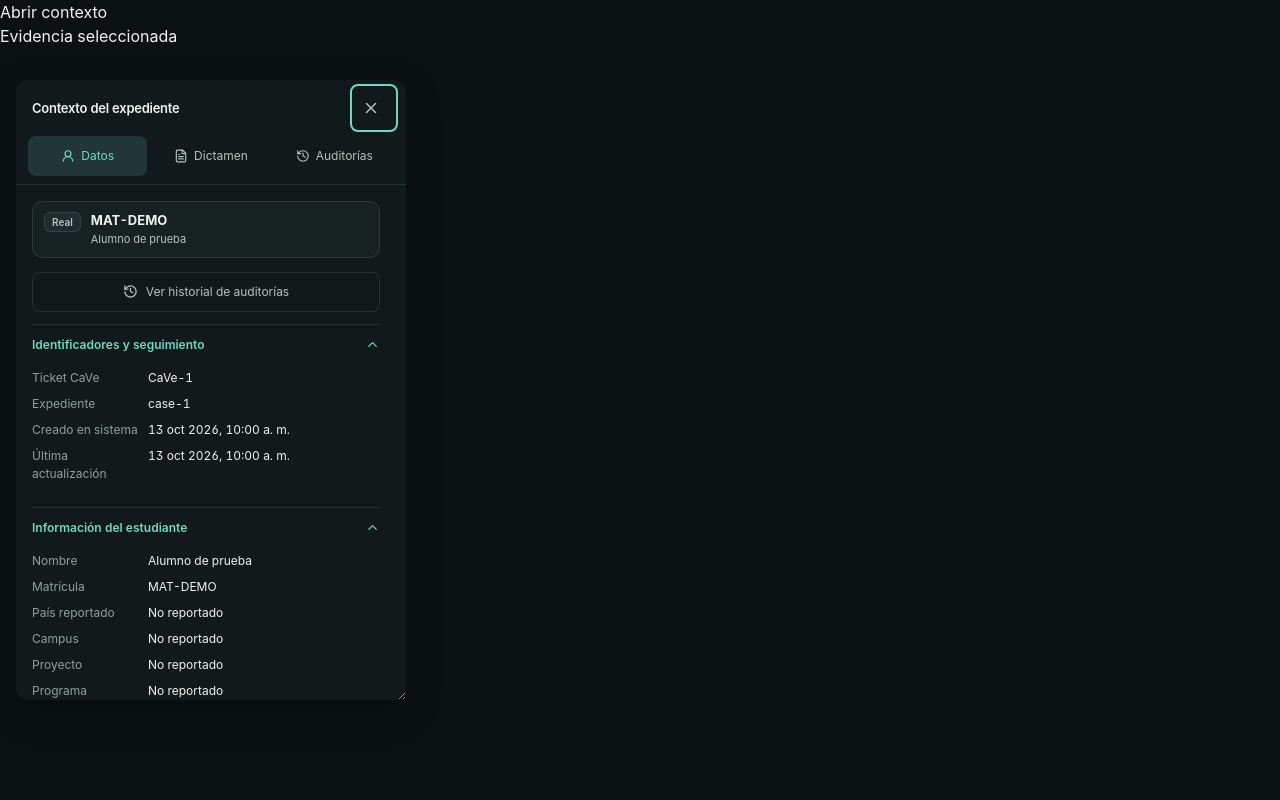
Test case: rechaza una respuesta histórica perteneciente a otro ticket
Click the tab "Auditorías": click(334, 156) [275,136,394,176]
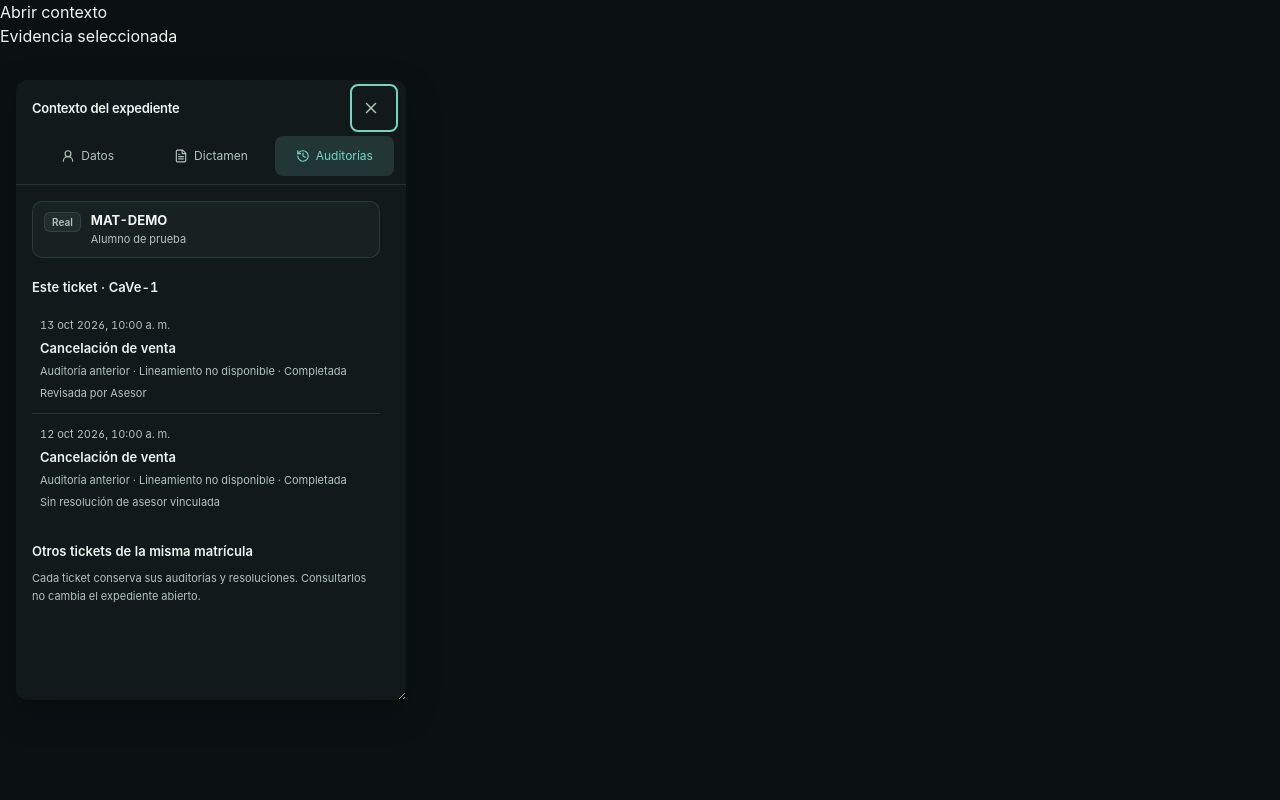
Click the button with aria-label "Consultar auditoría del 12 oct 2026, 10:00 a. m.": click(105, 434) [32,414,380,522]
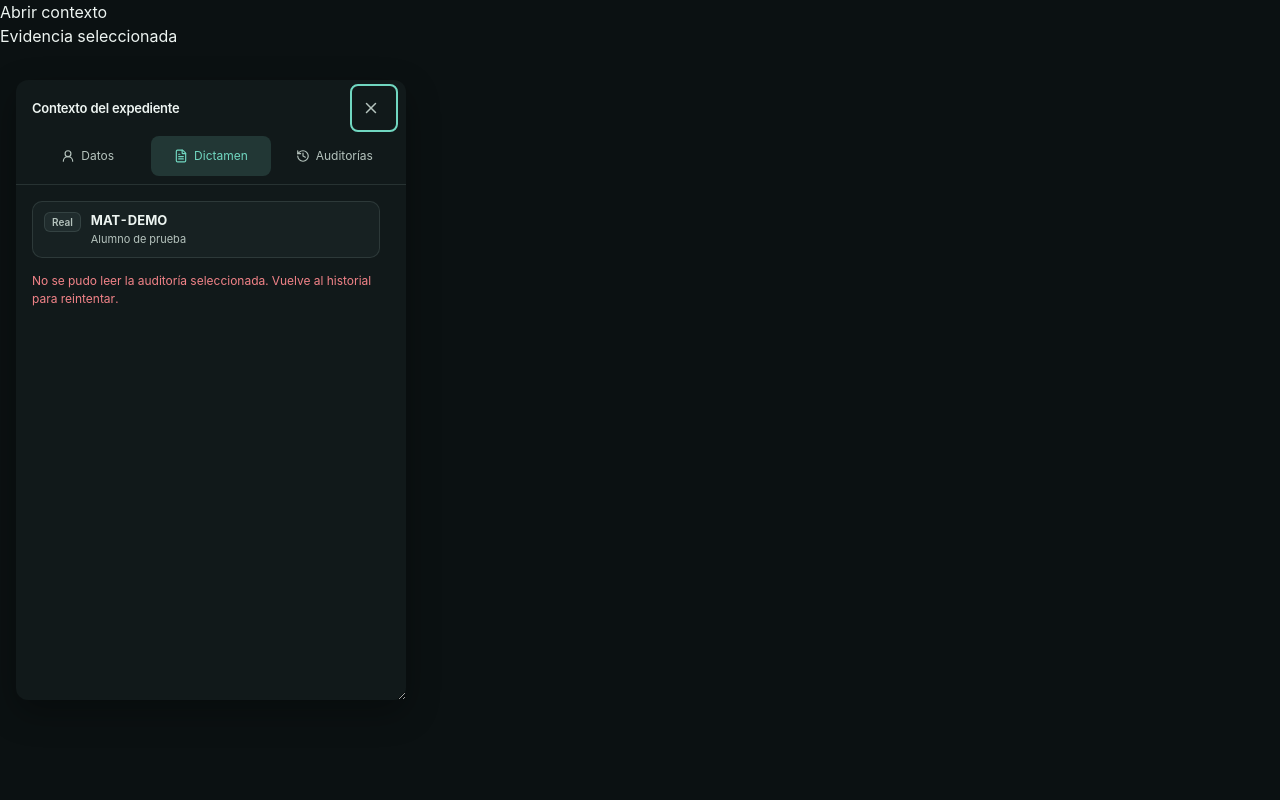
Expected: the message is shown, [32,272,380,308]
